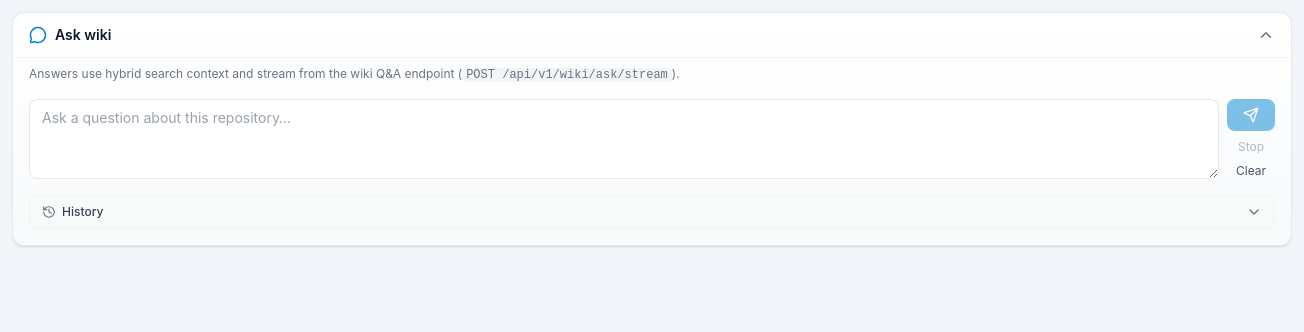
Test case: AskPanel › exposes conversation history toggle aria-expanded
Click the button "History" at (83, 212), box [30, 196, 1274, 228]
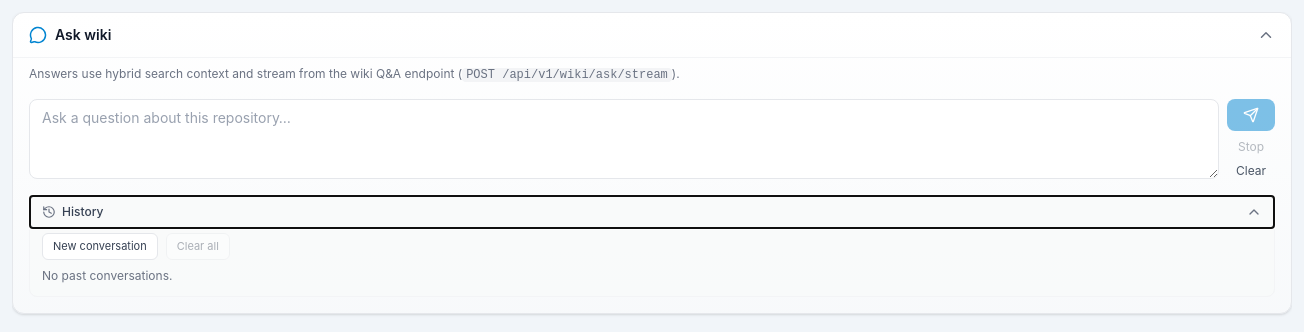
Now the button "History" is expanded, box [30, 196, 1274, 228]
